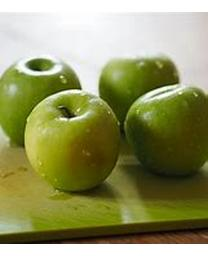apple: (24, 89, 122, 191), (124, 85, 207, 176), (0, 57, 82, 146), (99, 49, 181, 122)
